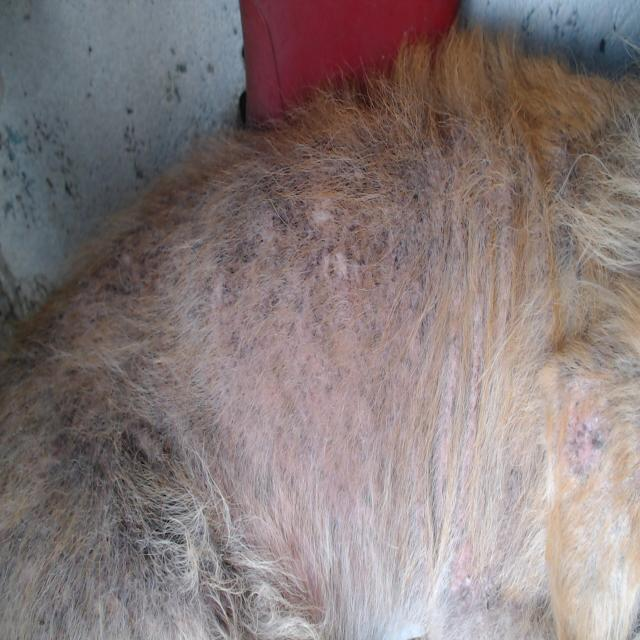demodicosis: (249, 146, 429, 340), (254, 381, 405, 553), (56, 406, 201, 531), (539, 391, 601, 480)
